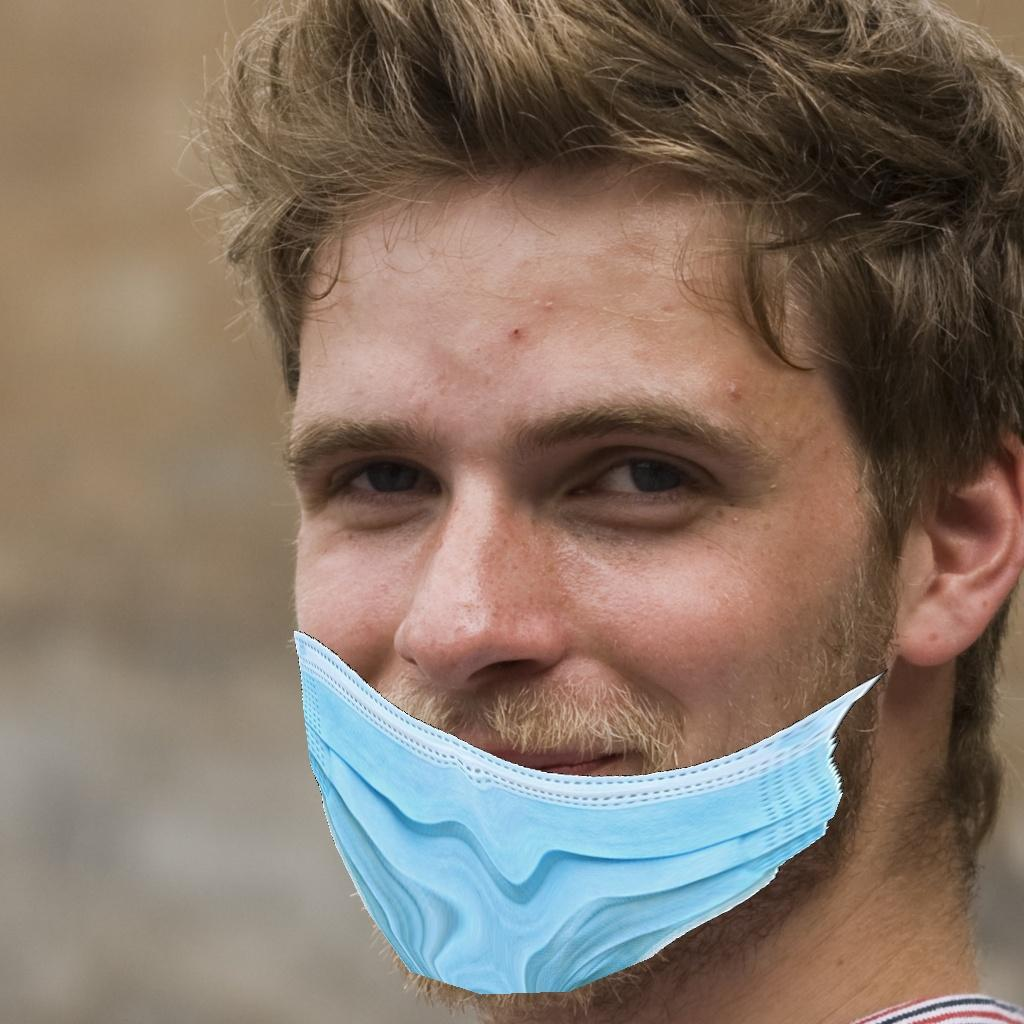Máscara Incorreta: (282, 230, 875, 960)
